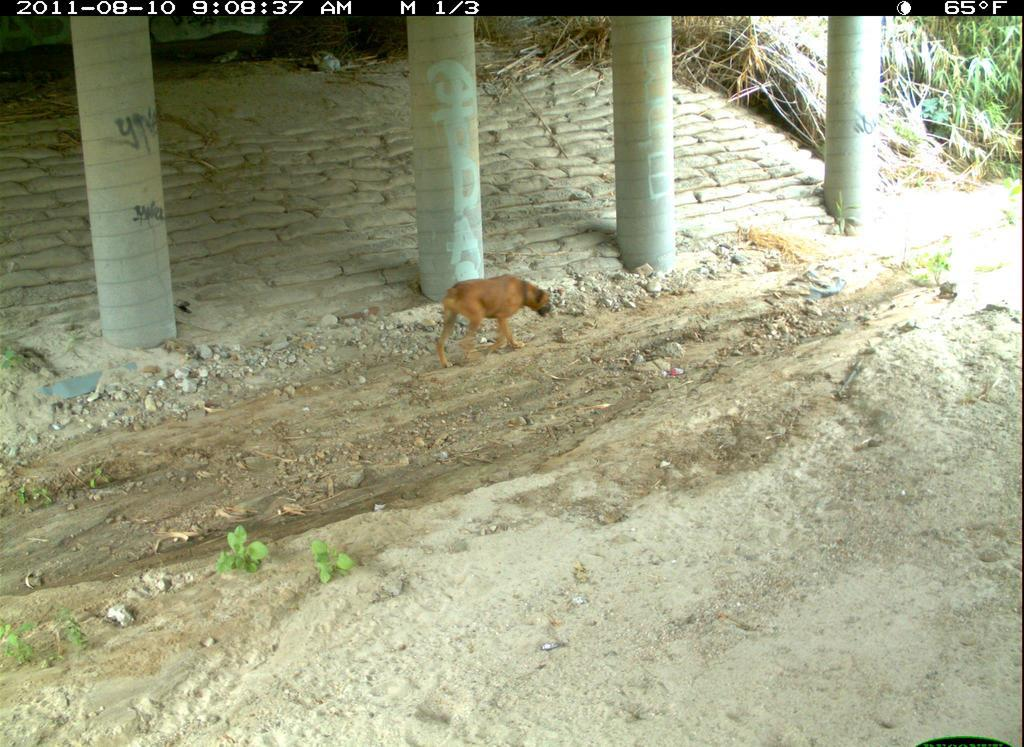dog: (863, 533, 1024, 747)
